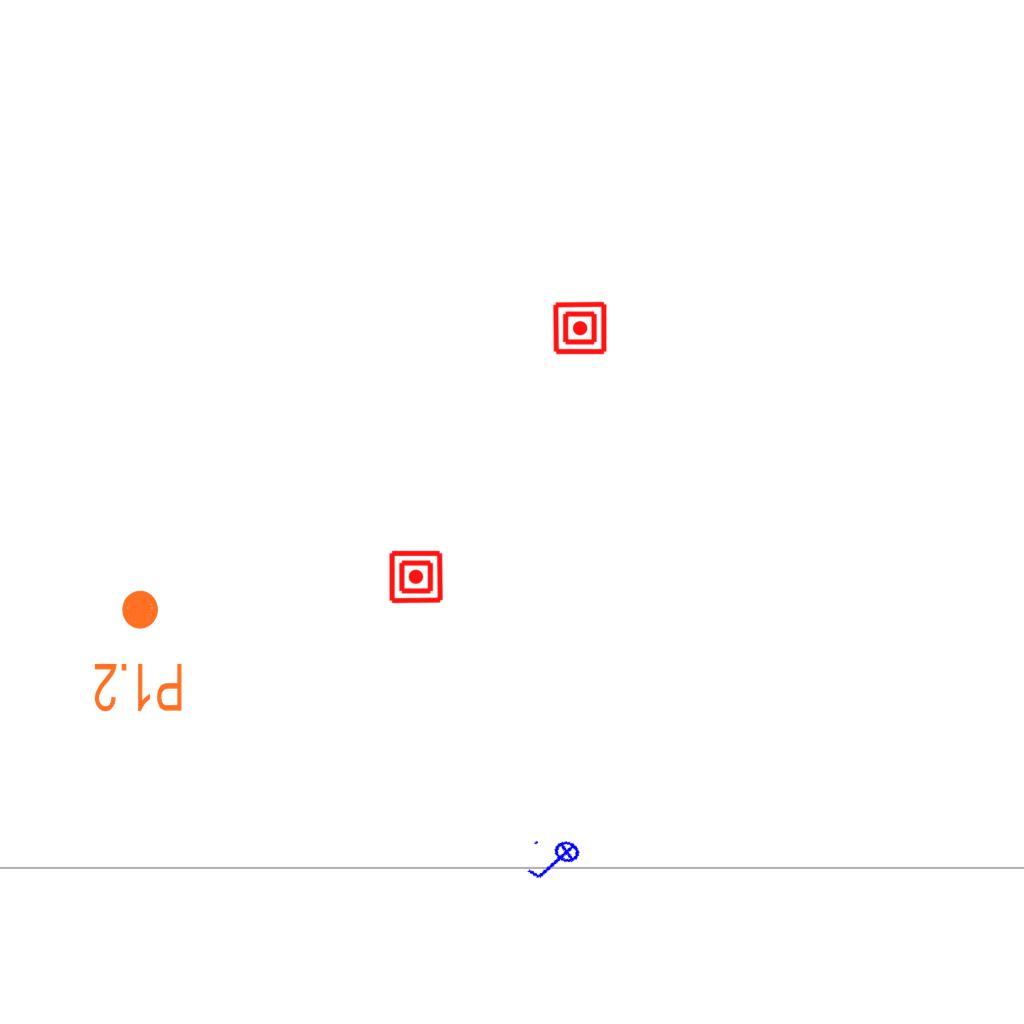Ausschalter_beleuchtet: (521, 831, 589, 893)
Downlight_LED_Einbauleuchten_Flur: (92, 587, 185, 715)
NAM-Nichtautomatischer_Melder: (388, 549, 444, 605), (552, 300, 608, 356)
